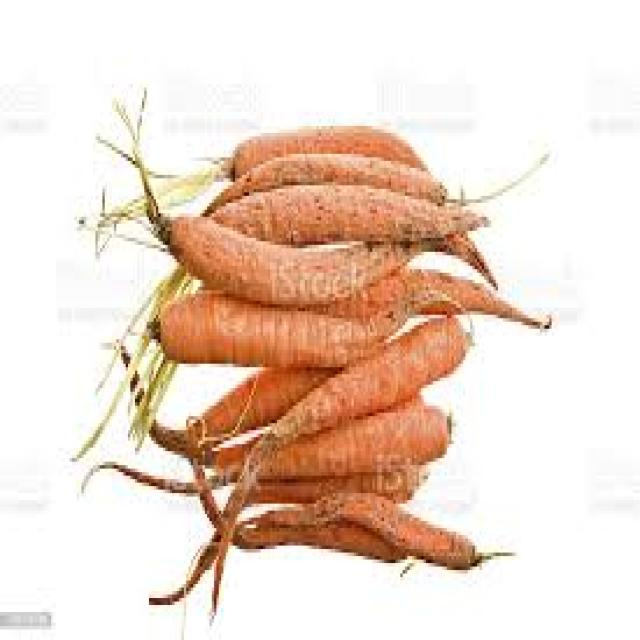Stale_Carrot: (153, 120, 483, 562)
